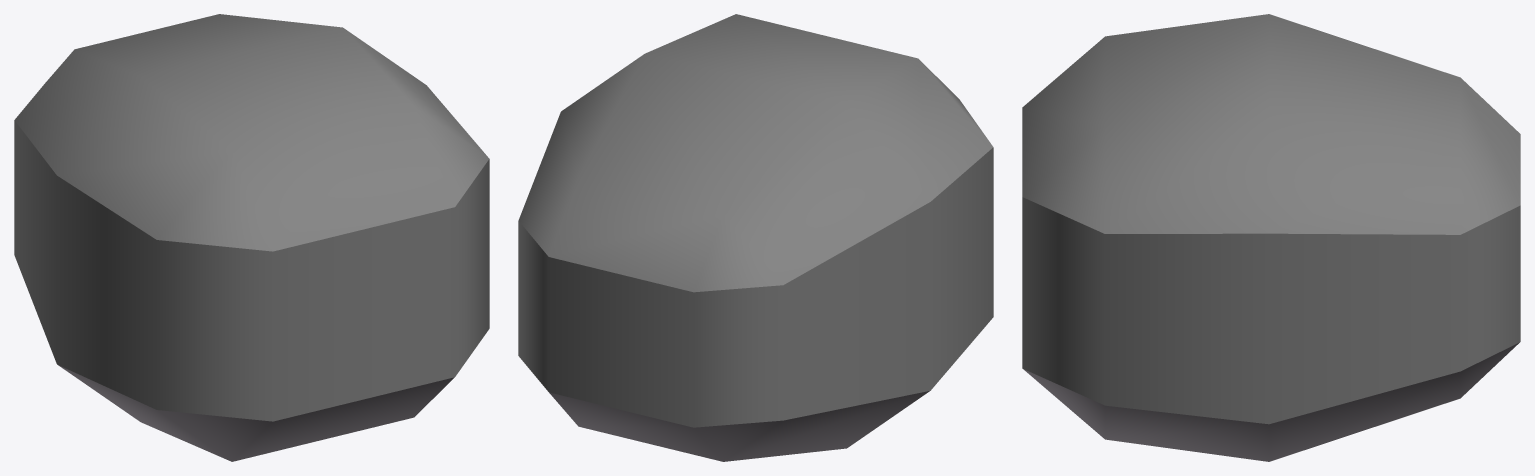
Rendered from Projectile_1_Boss_6_Tree.fbx.
3 renders of one model, left to right at view 1: azimuth 30°, elevation 25°; view 2: azimuth 150°, elevation 25°; view 3: azimuth 270°, elevation 25°, orthographic.
Parts seen in each view (by area): view 1: Projectile_1_Boss_6_Tree; view 2: Projectile_1_Boss_6_Tree; view 3: Projectile_1_Boss_6_Tree.
Boxes of the visible parts, left/top/right/bottom form: Projectile_1_Boss_6_Tree: left=14, top=14, right=489, bottom=461; Projectile_1_Boss_6_Tree: left=518, top=14, right=993, bottom=461; Projectile_1_Boss_6_Tree: left=1022, top=14, right=1520, bottom=461.
Size of the model in its own units: 0.015 by 0.0134 by 0.0173.
